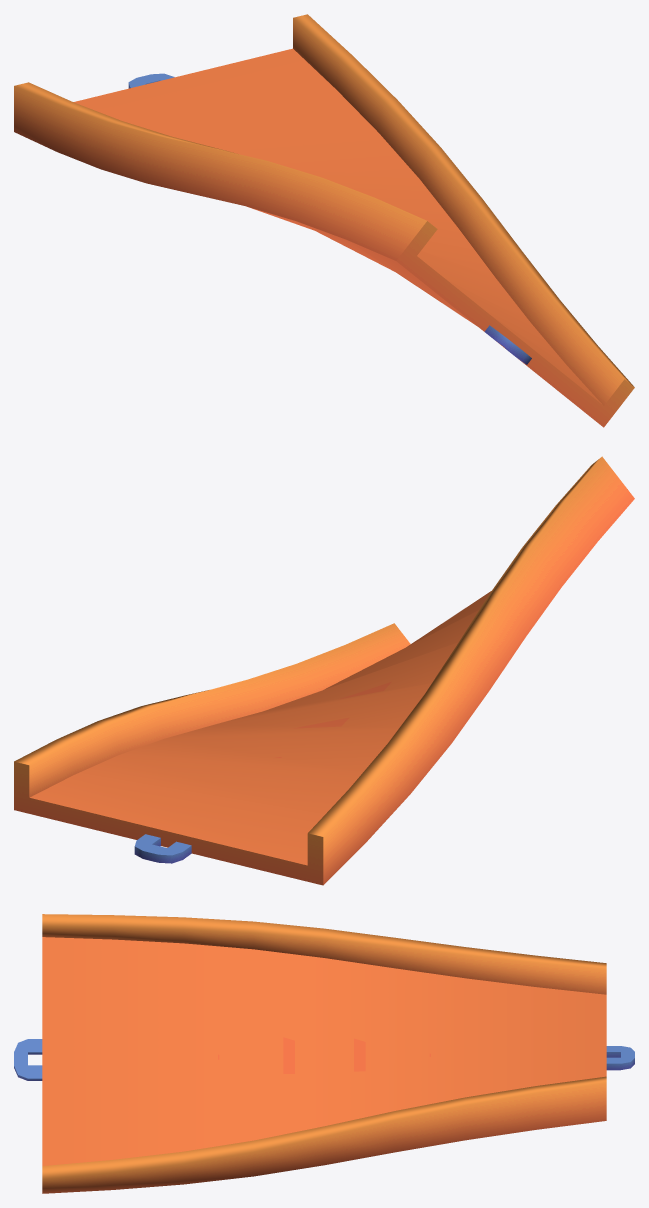
File: track-wide-straight-skew-left.glb
The picture shows the model from 3 angles, top to bottom: view 1: azimuth 30°, elevation 25°; view 2: azimuth 150°, elevation 25°; view 3: azimuth 270°, elevation 25°; orthographic projection. The views are drawn at different scales.
Parts seen in each view (by area): view 1: track-wide-straight-skew-left; view 2: track-wide-straight-skew-left; view 3: track-wide-straight-skew-left.
Part boxes in pixels (box(x1,y1,x2,y2)): track-wide-straight-skew-left: box(14, 14, 634, 427); track-wide-straight-skew-left: box(14, 456, 634, 885); track-wide-straight-skew-left: box(14, 914, 634, 1193).
Bounding box in the file's own units: 6.13 × 4.88 × 13.2.
1 material, 1 textured.
